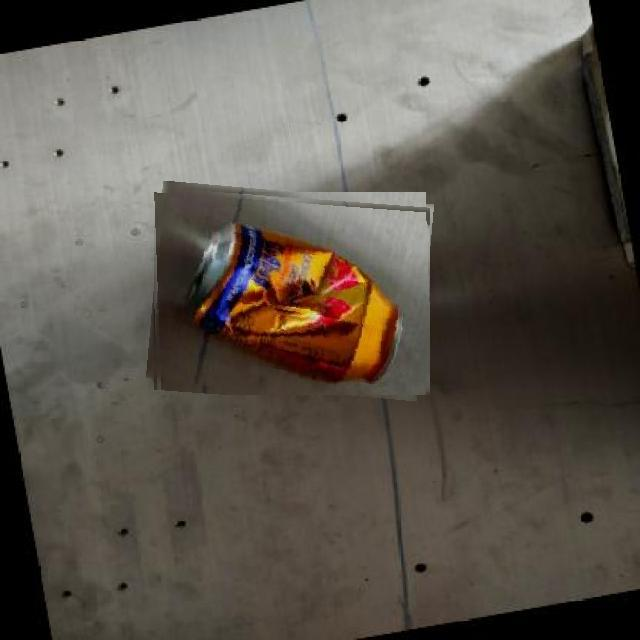recyclable: (150, 187, 430, 395)
